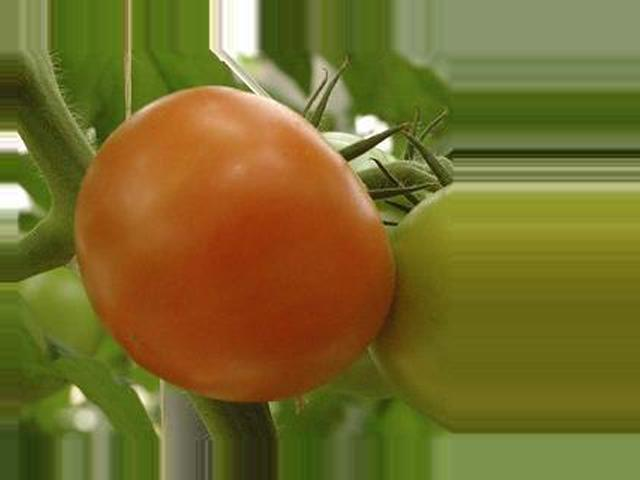tomato: (74, 84, 394, 402)
